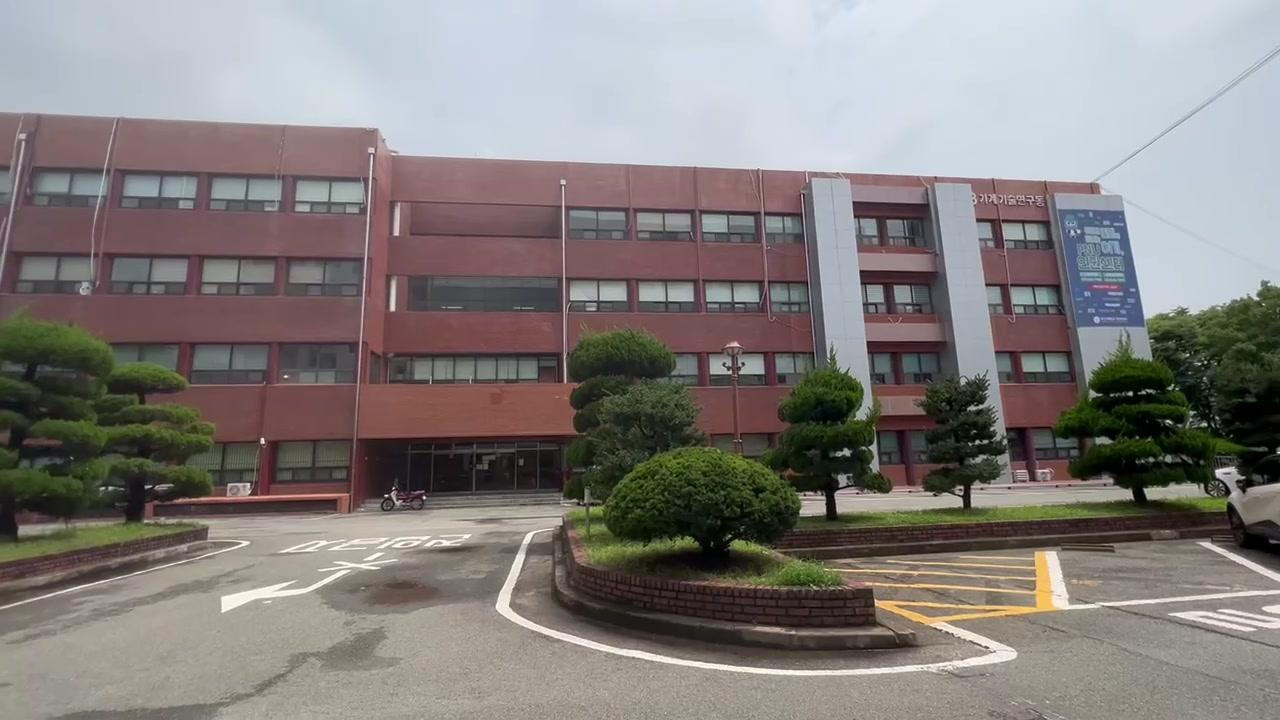building: (184, 126, 550, 513)
